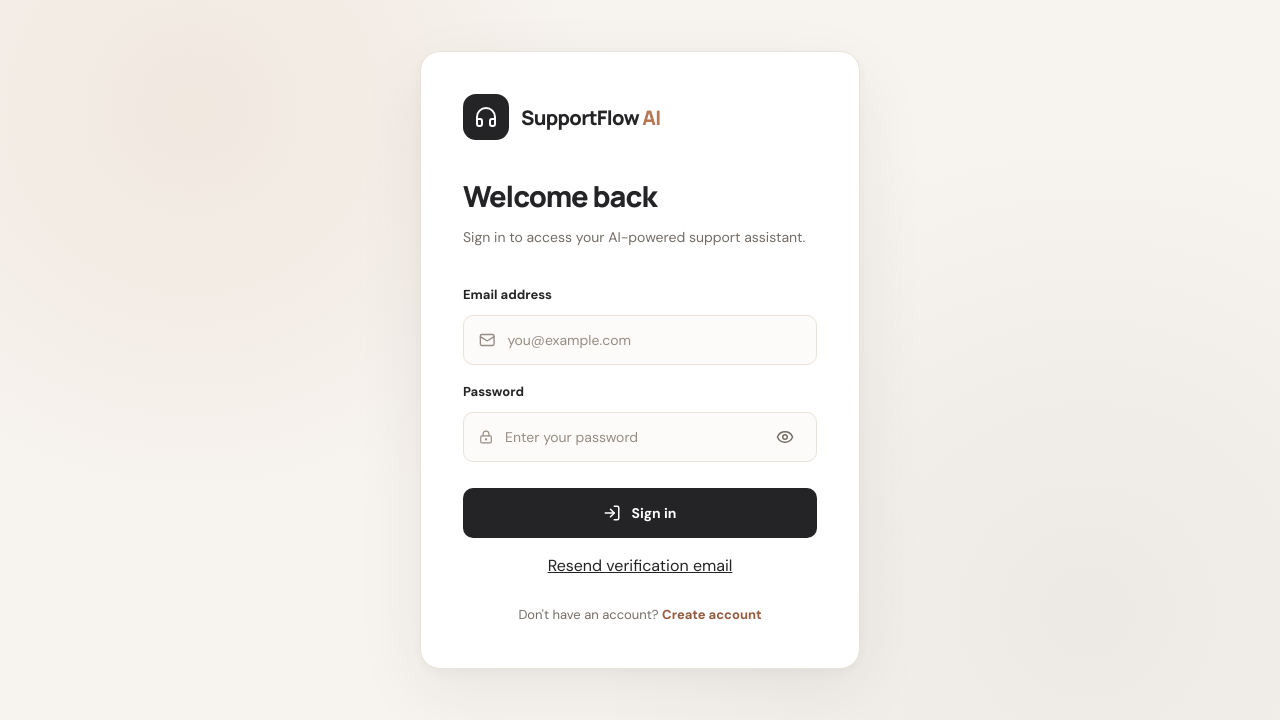
Test: Login and email verification resend › rejects resend without email and password
Click the button "Resend verification email": (640, 566) [542, 554, 738, 577]
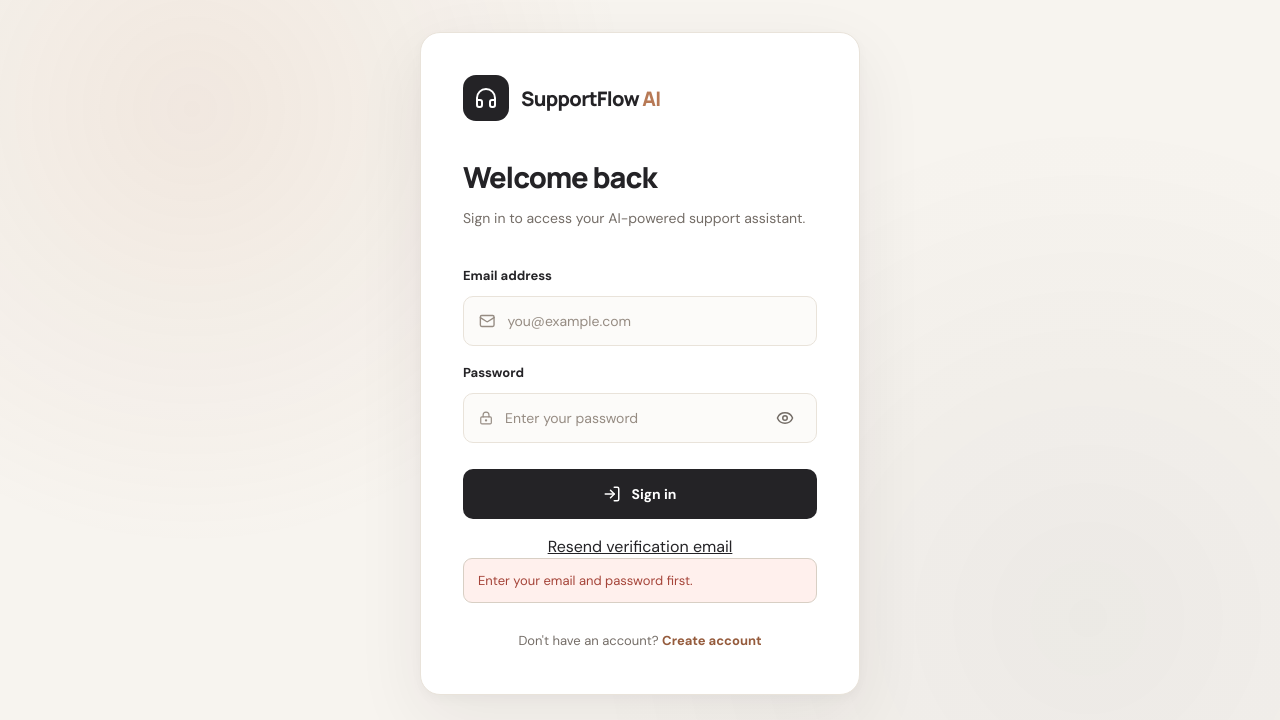
Check: the text "Enter your email and password first." is shown, box [463, 558, 817, 603]
